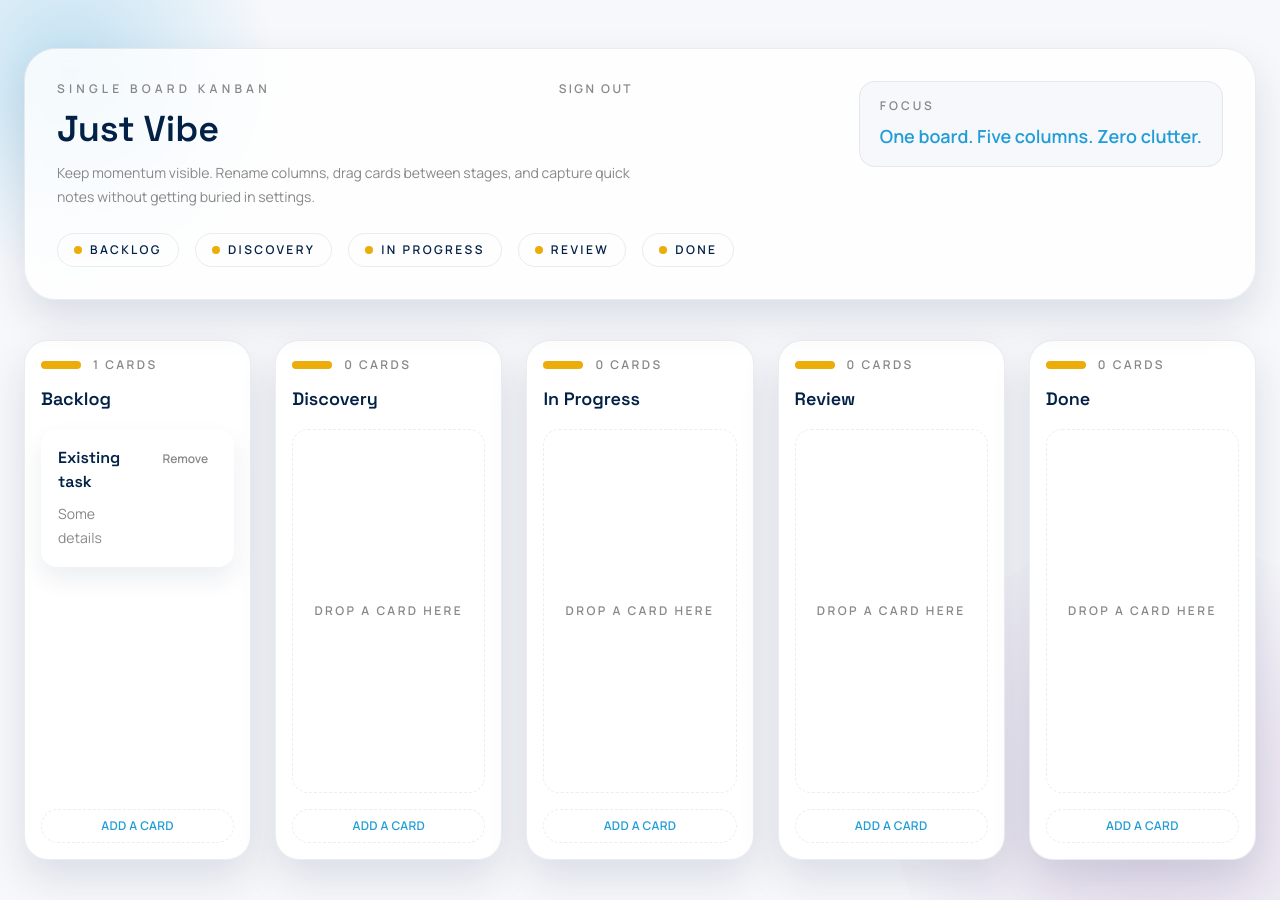
Test case: KanbanBoard › adds a card via API and displays it
The width and height of the screenshot is (1280, 900).
Click the 1st button "Add a card" at (138, 826), box [41, 809, 234, 843]
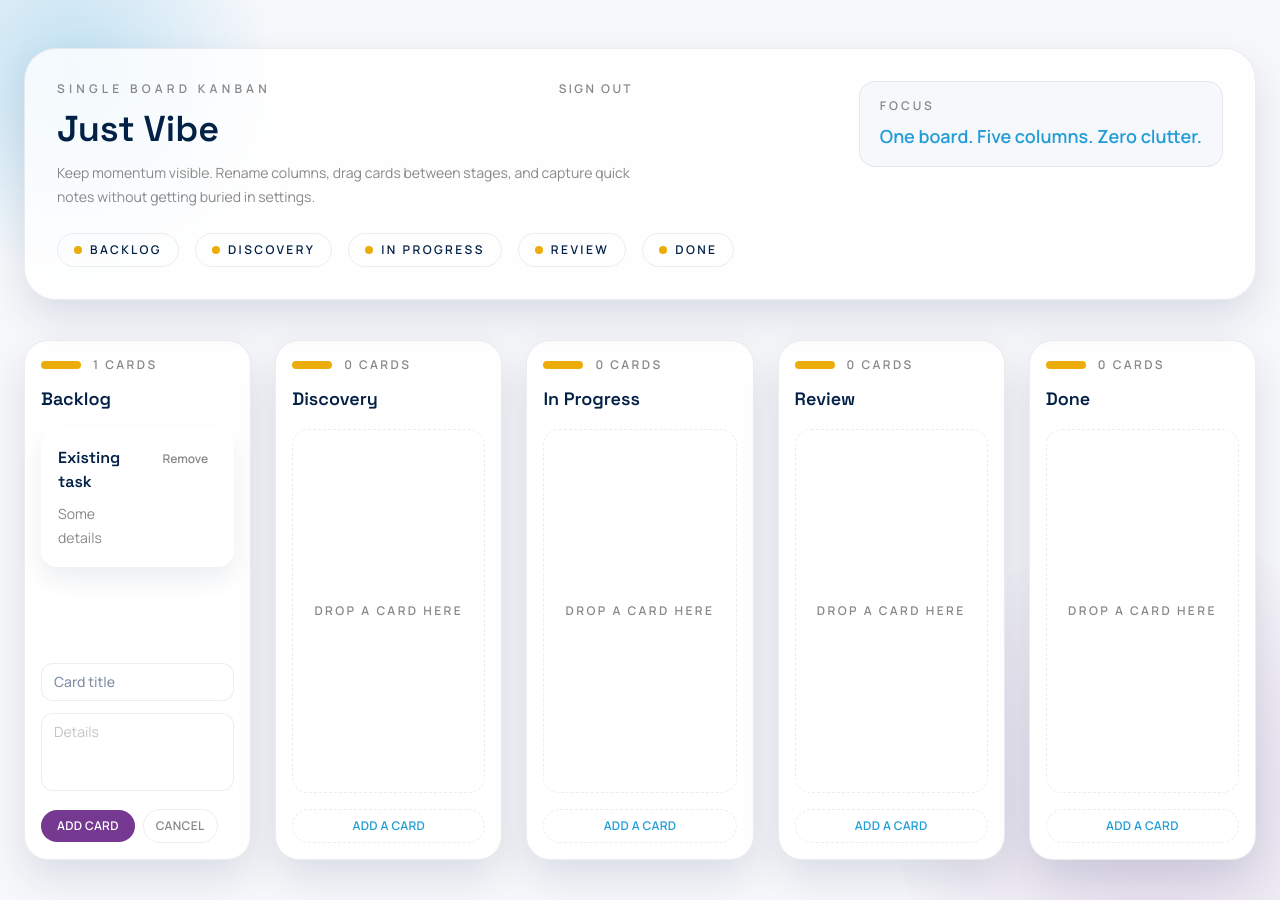
Type "New card" into the field with placeholder "Card title" at (138, 682), box [41, 663, 234, 701]
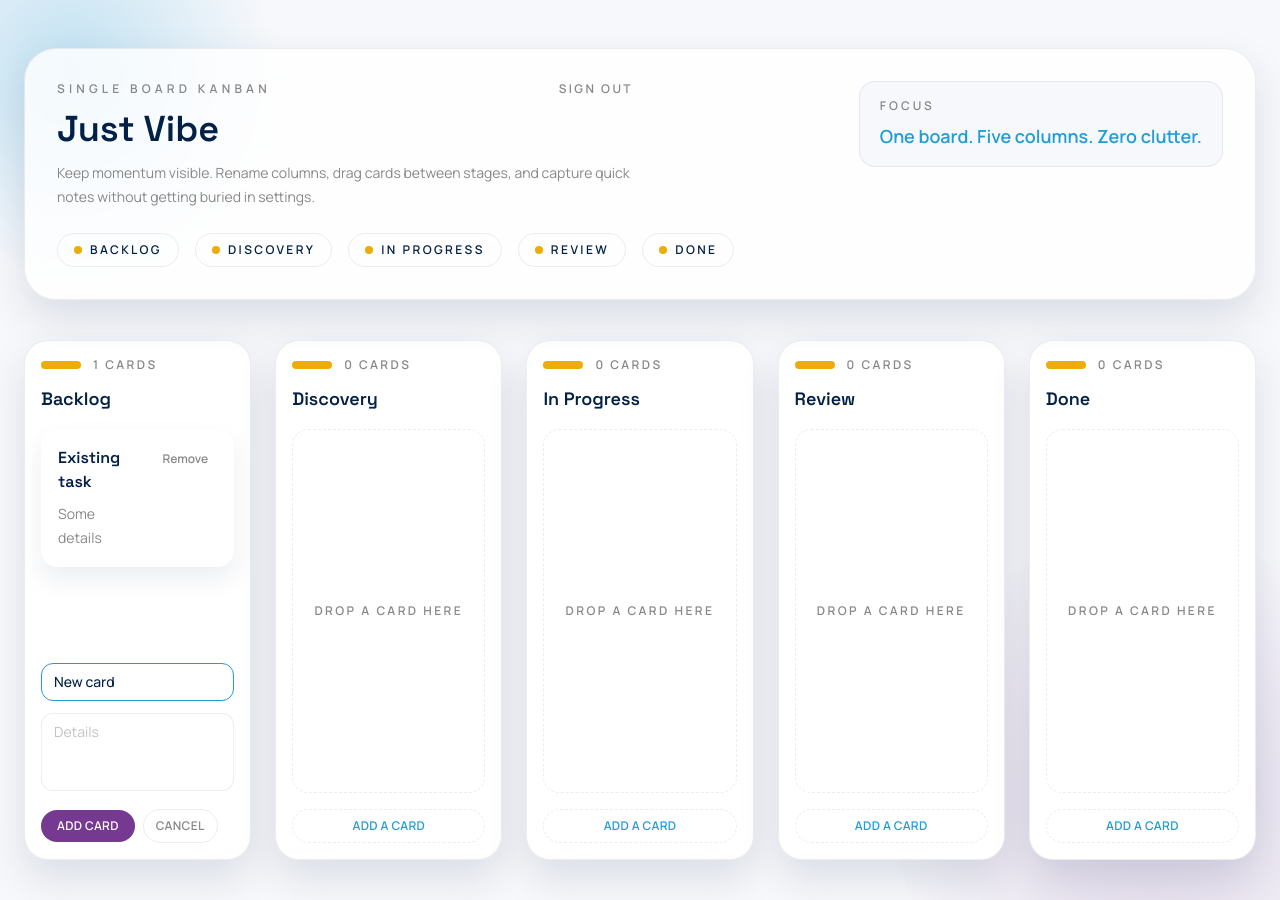
Click the button "Add card" at (88, 826), box [41, 810, 135, 842]
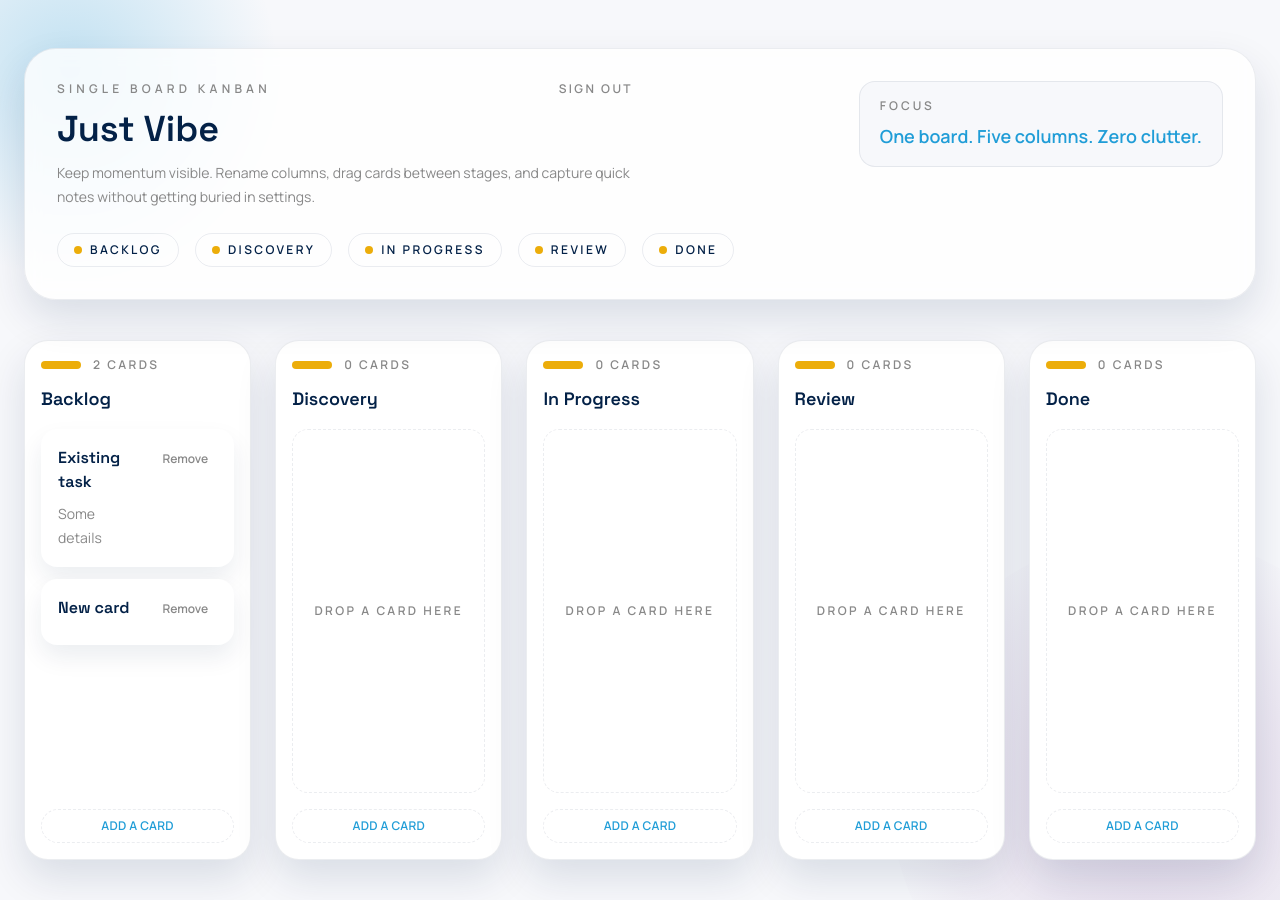
Expected: the heading "New card" is shown, [58, 596, 130, 620]
